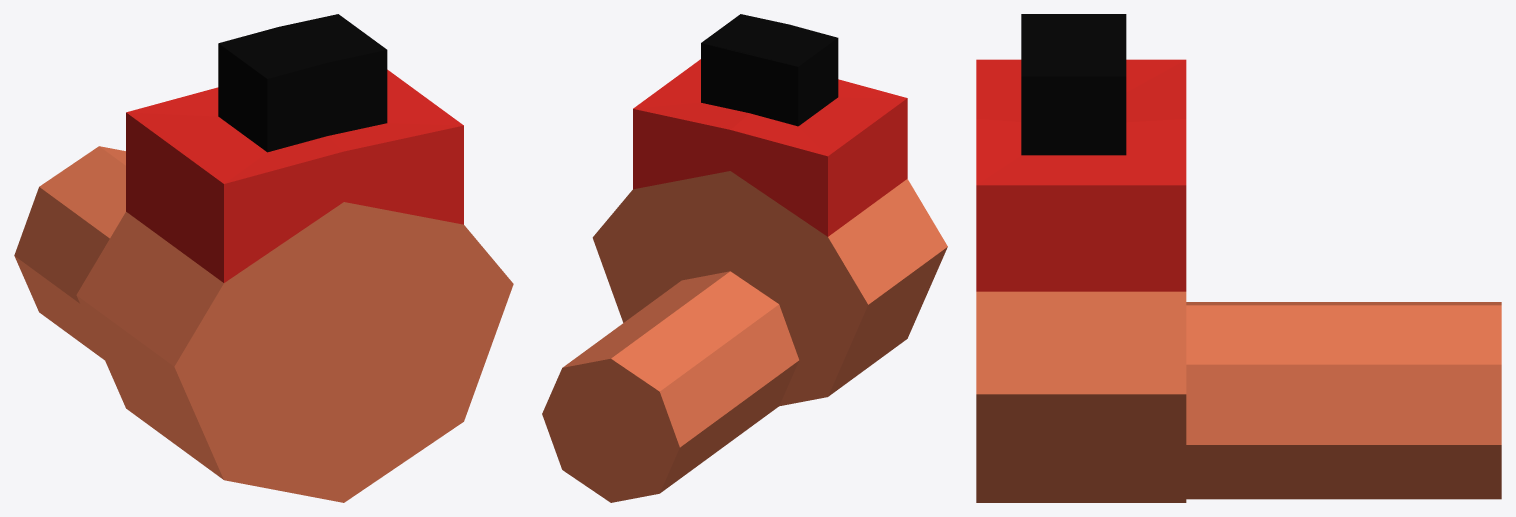
Rendered from Riveter.fbx.
The picture shows the model from 3 angles, left to right: view 1: azimuth 30°, elevation 25°; view 2: azimuth 150°, elevation 25°; view 3: azimuth 270°, elevation 25°; orthographic projection. The views are drawn at different scales.
Parts seen in each view (by area): view 1: Cylinder; view 2: Cylinder; view 3: Cylinder.
Boxes of the visible parts, x1,y1,x2,y2 form: Cylinder: (14,14,513,502); Cylinder: (542,14,947,502); Cylinder: (976,14,1501,502).
Bounding box in the file's own units: 400 × 477 × 500.
